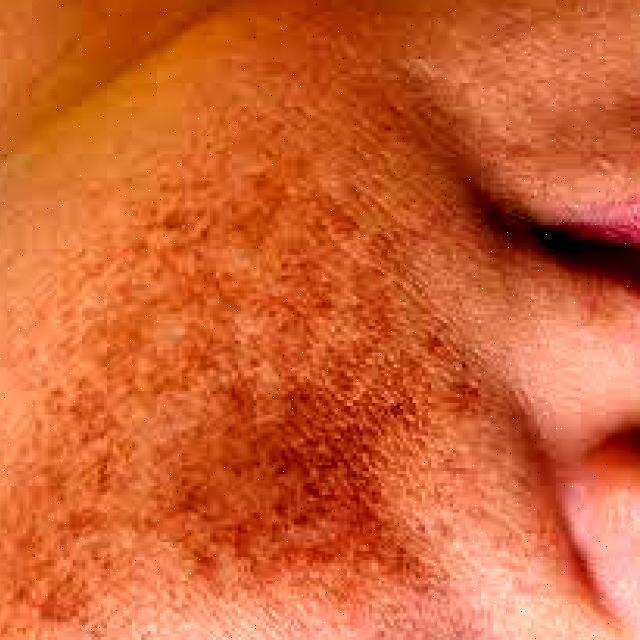Melasma: (0, 105, 538, 640)
